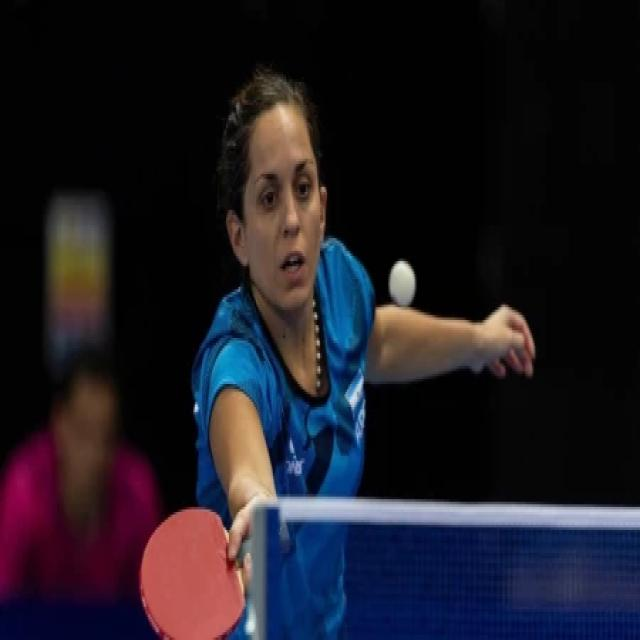TT Net: (249, 493, 639, 637)
TT Racket: (137, 505, 253, 637)
